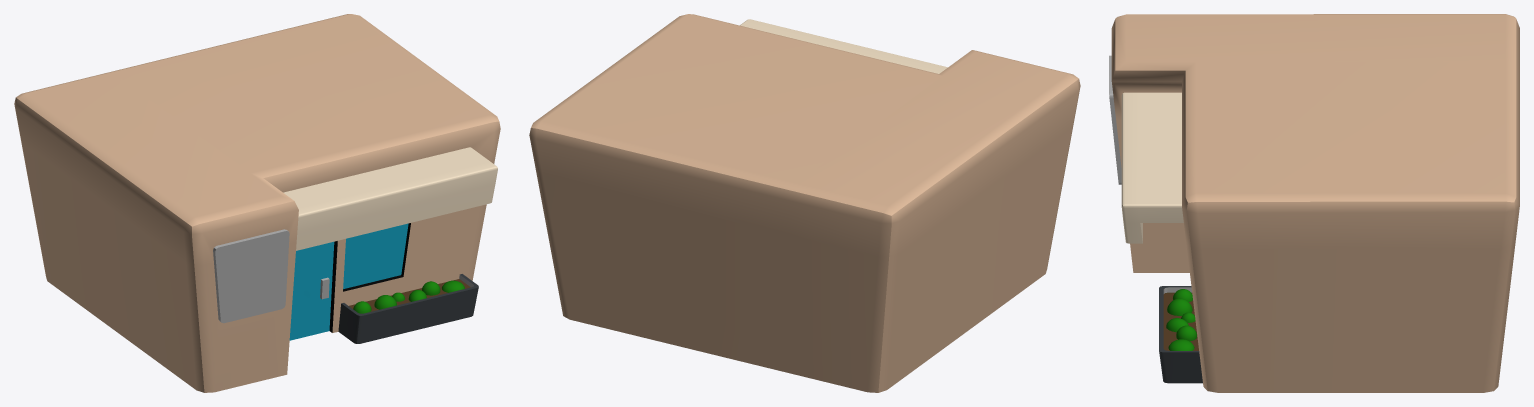
The model's file is DMV.fbx.
3 views of the same model, side by side, from view 1: azimuth 30°, elevation 25°; view 2: azimuth 150°, elevation 25°; view 3: azimuth 270°, elevation 25° (orthographic). The views are drawn at different scales.
Parts seen in each view (by area): view 1: DMV; view 2: DMV; view 3: DMV.
Part boxes in pixels (x1,y1,x2,y2): DMV: (14,14,500,392); DMV: (529,14,1080,392); DMV: (1109,14,1519,392).
Bounding box in the file's own units: 7.93 × 4 × 7.23.
1 material, 1 textured.
